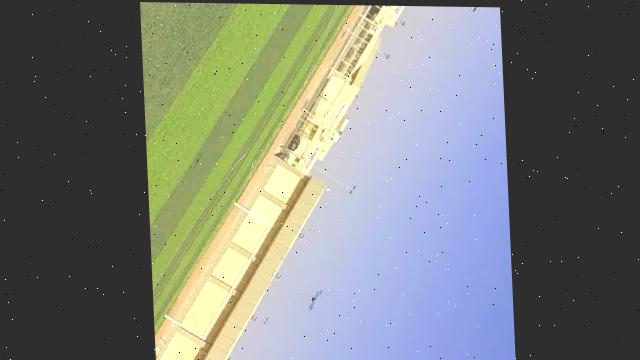drone: (296, 283, 324, 312)
